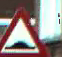Speed Breaker ahead: (4, 3, 52, 56)
